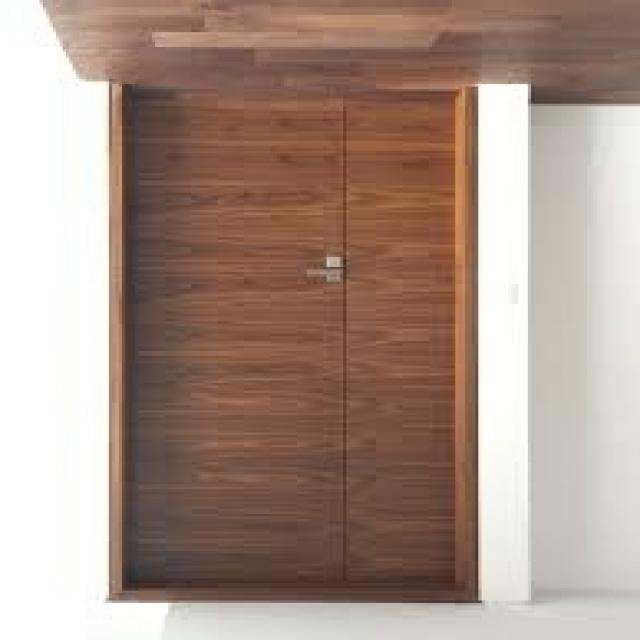door: (112, 84, 478, 603)
